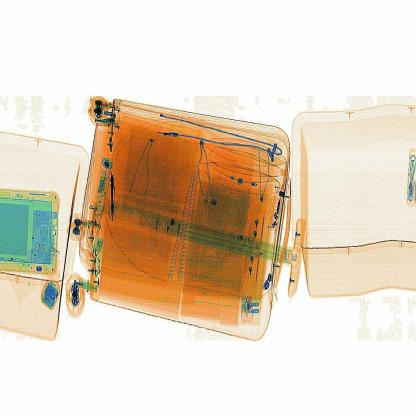knife: (106, 168, 124, 226)
